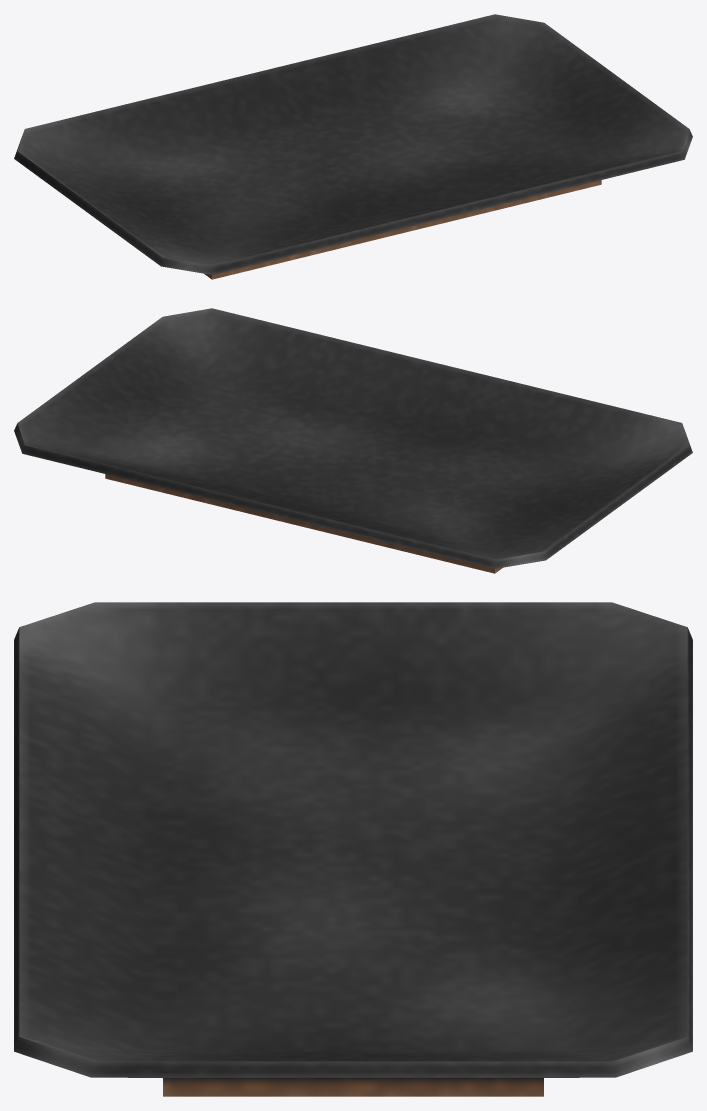
The model's file is KR_Flat_tray_01_01.fbx.
3 views of the same model, one above another, from view 1: azimuth 30°, elevation 25°; view 2: azimuth 150°, elevation 25°; view 3: azimuth 270°, elevation 25° (orthographic). The views are drawn at different scales.
Visible parts, largest first — view 1: kr_flat_tray_01_01; view 2: kr_flat_tray_01_01; view 3: kr_flat_tray_01_01.
Part boxes in pixels (x1,y1,x2,y2): kr_flat_tray_01_01: [14, 14, 692, 279]; kr_flat_tray_01_01: [14, 308, 692, 573]; kr_flat_tray_01_01: [14, 602, 692, 1096].
Size of the model in its own units: 21 by 2 by 13.
